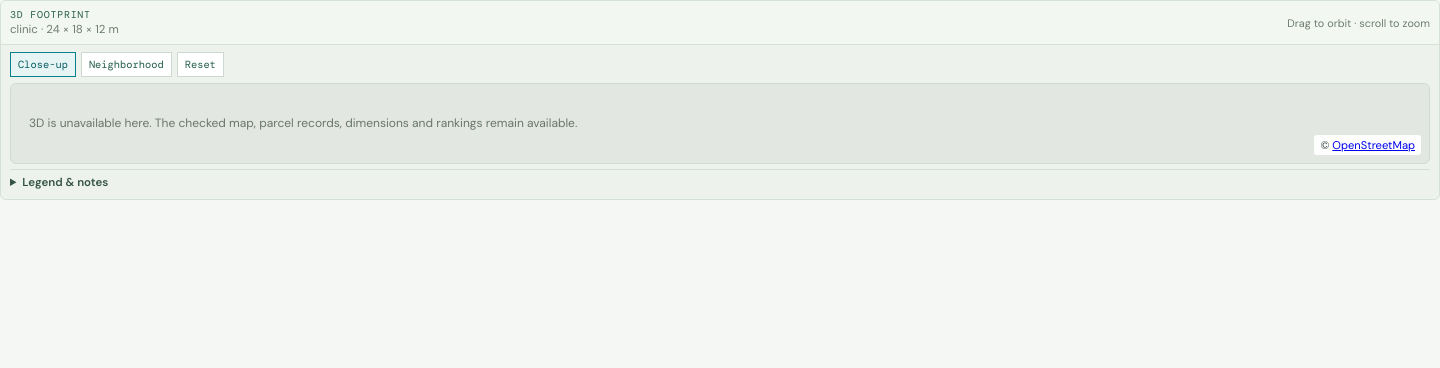
Test case: shows an accessible fallback and retries context creation after a view change
Expected: the message shows "3D is unavailable", x1=29 y1=115 x2=577 y2=131
Click the button "Neighborhood" at coordinates (126, 64), box x1=81 y1=52 x2=172 y2=77
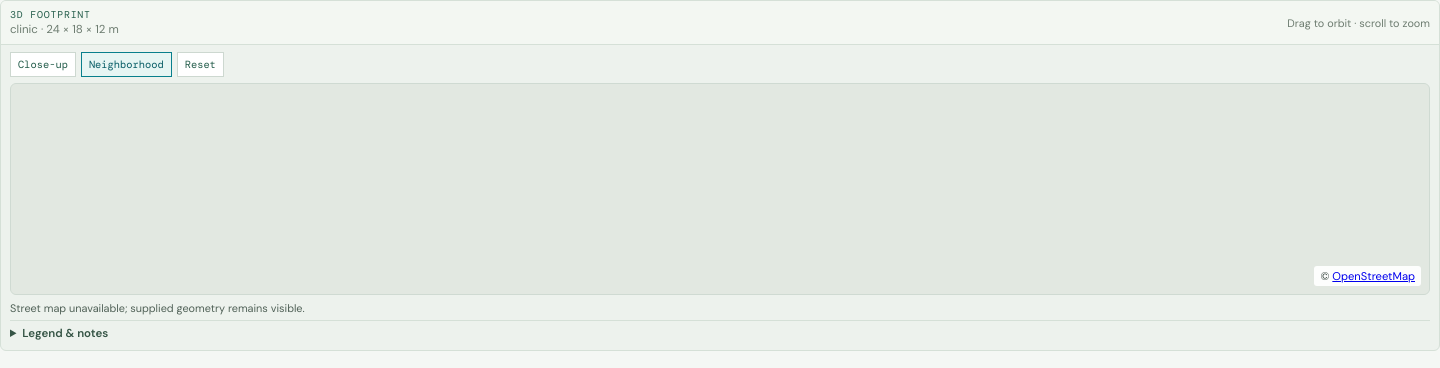
Now the text "3D is unavailable" is gone
Now the message reads "Street map unavailable; supplied geometry remains visible.", box x1=10 y1=301 x2=305 y2=315
